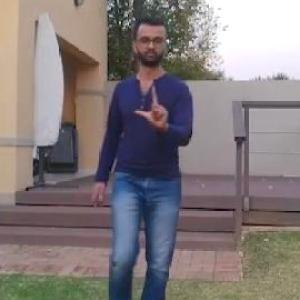land_hand: (131, 79, 175, 131)
